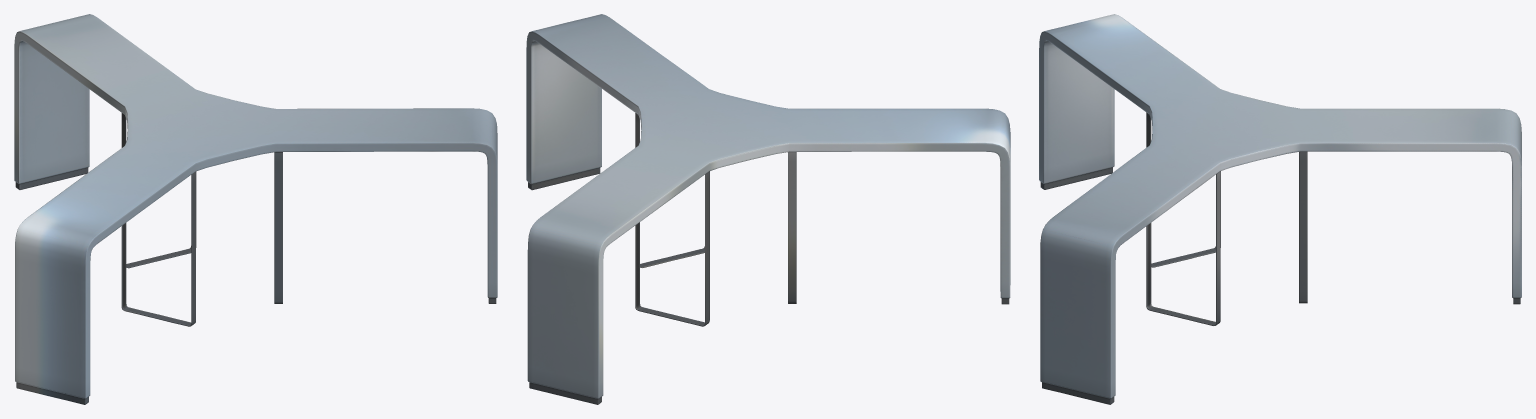
Rendered from brunch_weiss_3-er_stern.glb.
3 renders of one model, left to right at view 1: azimuth 30°, elevation 25°; view 2: azimuth 150°, elevation 25°; view 3: azimuth 270°, elevation 25°, orthographic.
Parts seen in each view (by area): view 1: brunch_weiss_3-er_stern-white; view 2: brunch_weiss_3-er_stern-white; view 3: brunch_weiss_3-er_stern-white.
Part boxes in pixels (x1,y1,x2,y2): brunch_weiss_3-er_stern-white: (14, 14, 497, 404); brunch_weiss_3-er_stern-white: (526, 14, 1010, 404); brunch_weiss_3-er_stern-white: (1039, 14, 1521, 404).
Size of the model in its own units: 3.43 by 1.1 by 2.97.
Materials: 1 (1 with a texture image).
